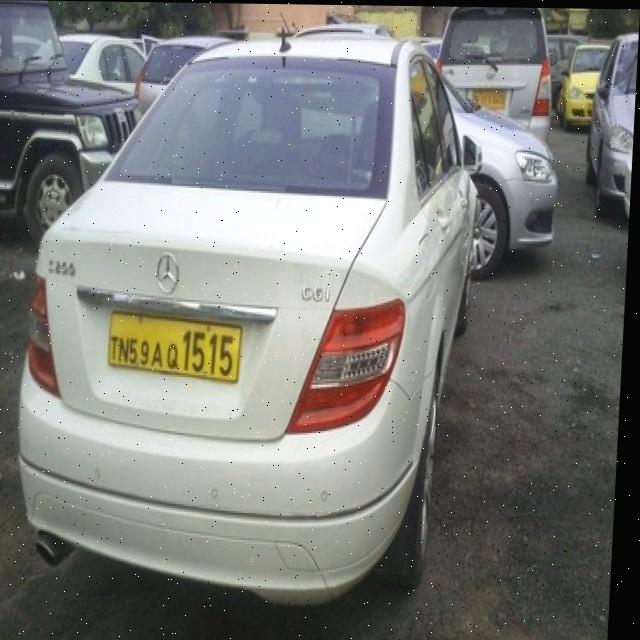plate: (110, 313, 246, 388)
